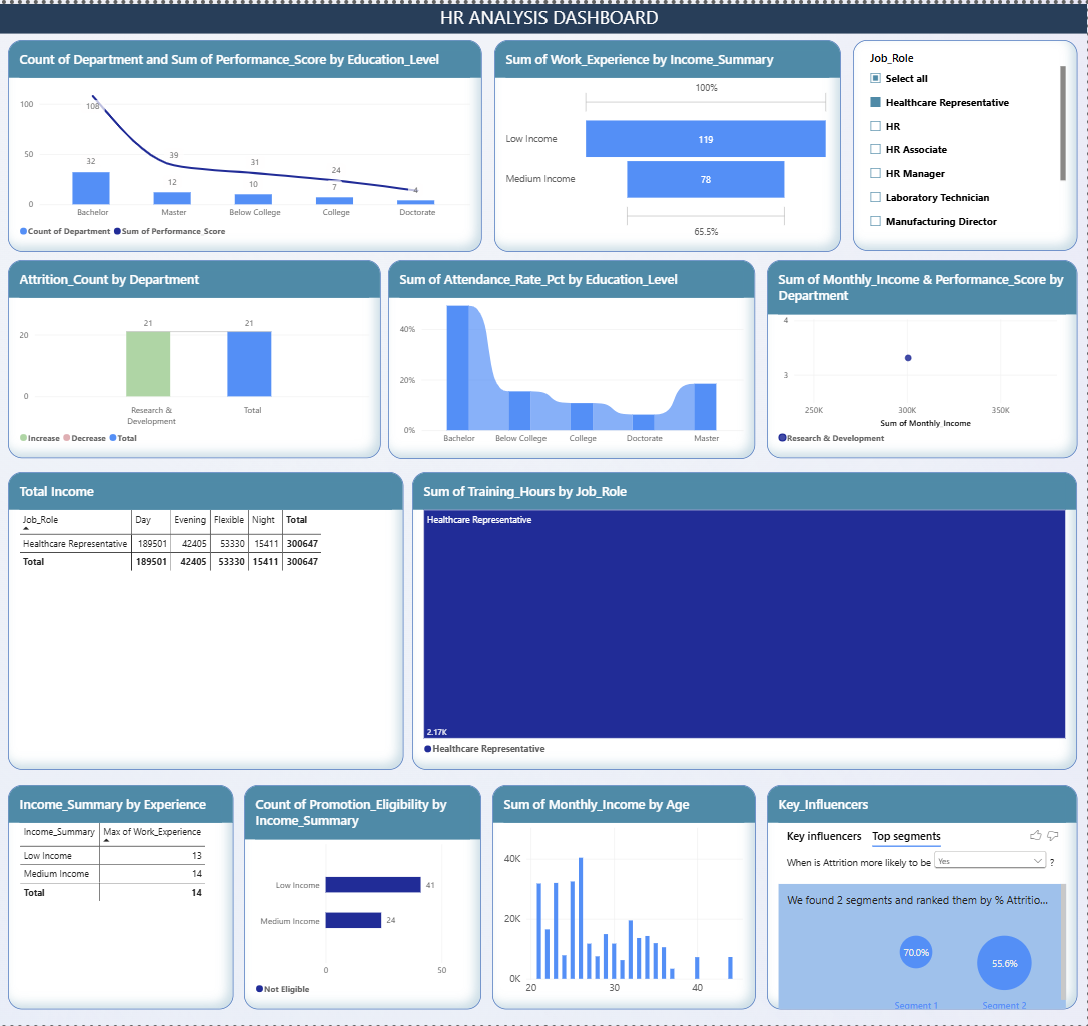

The dashboard page shown, as its layout file describes it:
{"tool":"powerbi","page":{"name":"HR_Analysis_Dashboard","canvas":[1600,1500],"ordinal":27},"visuals":[{"type":"textbox","box":[0,0,1600,43.3],"z":0},{"type":"lineClusteredColumnComboChart","fields":{"Category":["HR Details.Education_Level"],"Y":["CountNonNull(HR Details.Department)"],"Y2":["Sum(HR Details.Performance_Score)"]},"box":[15,53.3,696.7,311.7],"z":1000},{"type":"ribbonChart","title":"Sum of Attendance_Rate_Pct by Education_Level","fields":{"Category":["HR Details.Education_Level","HR Details.Department"],"Y":["Divide(Sum(HR Details.Attendance_Rate_Pct), ScopedEval(Sum(HR Details.Attendance_Rate_Pct), []))"]},"box":[573.8,376.9,538.5,292.3],"z":2000},{"type":"waterfallChart","title":"Attrition_Count by Department","fields":{"Category":["HR Details.Department"],"Y":["Attendance by Gender.Attrition_Count"]},"box":[13.8,376.9,547.9,291.5],"z":3000},{"type":"funnel","fields":{"Category":["HR Details.Income_Summary"],"Y":["Sum(HR Details.Work_Experience)"]},"box":[728.3,51.7,508.3,311.7],"z":4000},{"type":"pivotTable","title":"Total Income","fields":{"Columns":["HR Details.Work_Shift"],"Rows":["HR Details.Job_Role"],"Values":["Sum(HR Details.Monthly_Income)"]},"box":[13.3,688.3,581.7,436.7],"z":5000},{"type":"treemap","fields":{"Group":["HR Details.Job_Role"],"Values":["Sum(HR Details.Training_Hours)"]},"box":[608.3,688.3,976.7,436.7],"z":7000},{"type":"scatterChart","title":"Sum of Monthly_Income & Performance_Score by Department","fields":{"Series":["HR Details.Department"],"X":["Sum(HR Details.Monthly_Income)"],"Y":["Avg(HR Details.Performance_Score)"]},"box":[1128.3,376.7,456.7,291.7],"z":8000},{"type":"keyDriversVisual","title":"Key_Influencers","fields":{"ExplainBy":["Sum(HR Details.Work_Experience)","HR Details.Job_Role","Performance by Age.Age"],"Target":["HR Details.Attrition"]},"box":[1129,1146.8,456.7,330],"z":9000},{"type":"slicer","fields":{"Values":["HR Details.Job_Role"]},"box":[1255,53.3,330,310],"z":10000},{"type":"tableEx","title":"Income_Summary by Experience","fields":{"Values":["HR Details.Income_Summary","Max(HR Details.Work_Experience)"]},"box":[14.5,1146.8,331.7,330],"z":10001},{"type":"clusteredColumnChart","fields":{"Category":["Performance by Age.Age"],"Y":["Sum(HR Details.Monthly_Income)"]},"box":[727.4,1146.8,386.7,330],"z":10002},{"type":"barChart","title":"Count of Promotion_Eligibility by Income_Summary","fields":{"Category":["HR Details.Income_Summary"],"Series":["HR Details.Promotion_Eligibility"],"Y":["CountNonNull(HR Details.Promotion_Eligibility)"]},"box":[362.9,1148.4,348.3,330],"z":10003}]}

Visuals, with their boxes in screenshot pixels (x1, y1, x2, y2), scaled from the page's 1600x1500 canvas onto the 1088x1026 screenshot:
textbox: 0 0 1087 30
lineClusteredColumnComboChart - HR Details.Education_Level x CountNonNull(HR Details.Department): 10 36 484 250
"Sum of Attendance_Rate_Pct by Education_Level" ribbonChart: 390 258 756 458
"Attrition_Count by Department" waterfallChart: 9 258 382 457
funnel - HR Details.Income_Summary x Sum(HR Details.Work_Experience): 495 35 841 249
"Total Income" pivotTable: 9 471 405 770
treemap - HR Details.Job_Role x Sum(HR Details.Training_Hours): 414 471 1078 770
"Sum of Monthly_Income & Performance_Score by Department" scatterChart: 767 258 1078 457
"Key_Influencers" keyDriversVisual: 768 784 1078 1010
slicer - HR Details.Job_Role: 853 36 1078 248
"Income_Summary by Experience" tableEx: 10 784 235 1010
clusteredColumnChart - Performance by Age.Age x Sum(HR Details.Monthly_Income): 495 784 758 1010
"Count of Promotion_Eligibility by Income_Summary" barChart: 247 786 484 1011
